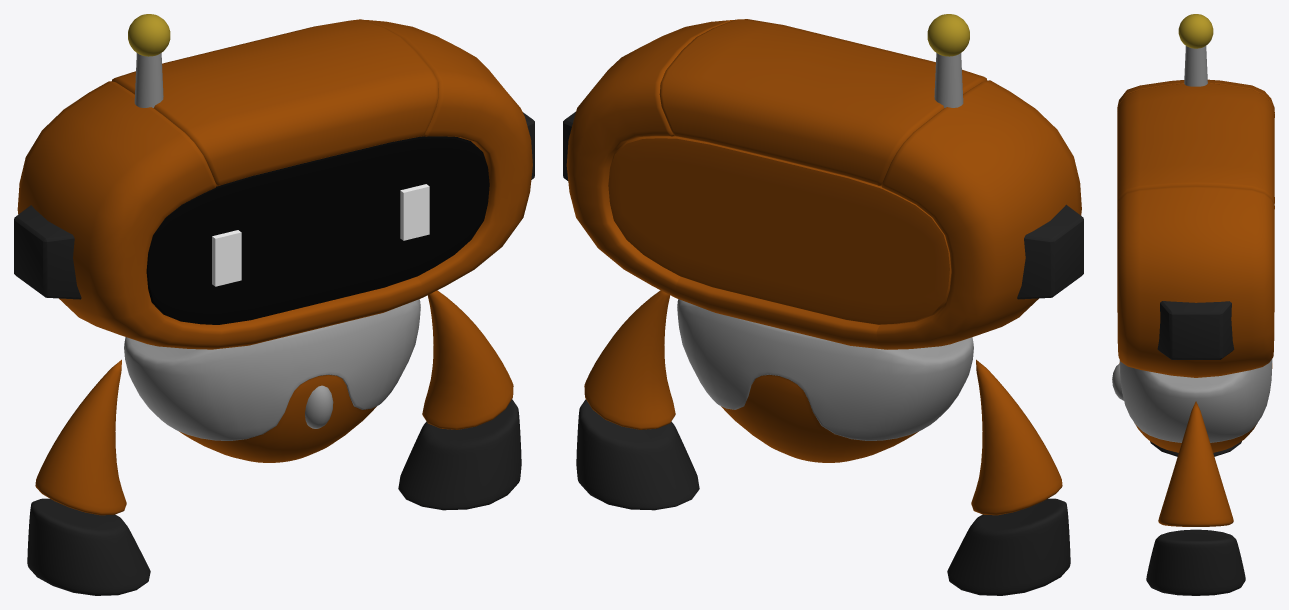
The model's file is GMR_L33D.FBX.
3 views of the same model, side by side, from view 1: azimuth 30°, elevation 25°; view 2: azimuth 150°, elevation 25°; view 3: azimuth 270°, elevation 25° (orthographic). The views are drawn at different scales.
Visible parts, largest first — view 1: GMR_L33D_head, GMR_L33T_body, GMR_L33D_arm_left, GMR_L33T_arm_right; view 2: GMR_L33D_head, GMR_L33T_body, GMR_L33D_arm_left, GMR_L33T_arm_right; view 3: GMR_L33D_head, GMR_L33D_arm_left, GMR_L33T_body.
Part boxes in pixels (bbox=[...]): GMR_L33D_head: bbox=[14, 14, 534, 349]; GMR_L33T_body: bbox=[124, 299, 420, 462]; GMR_L33D_arm_left: bbox=[398, 290, 521, 510]; GMR_L33T_arm_right: bbox=[27, 359, 150, 595]; GMR_L33D_head: bbox=[563, 14, 1083, 349]; GMR_L33T_body: bbox=[677, 299, 973, 462]; GMR_L33D_arm_left: bbox=[576, 290, 699, 510]; GMR_L33T_arm_right: bbox=[947, 359, 1070, 595]; GMR_L33D_head: bbox=[1117, 14, 1274, 377]; GMR_L33D_arm_left: bbox=[1146, 401, 1245, 595]; GMR_L33T_body: bbox=[1112, 359, 1272, 452].
Bounding box in the file's own units: 110 × 117 × 38.66.
